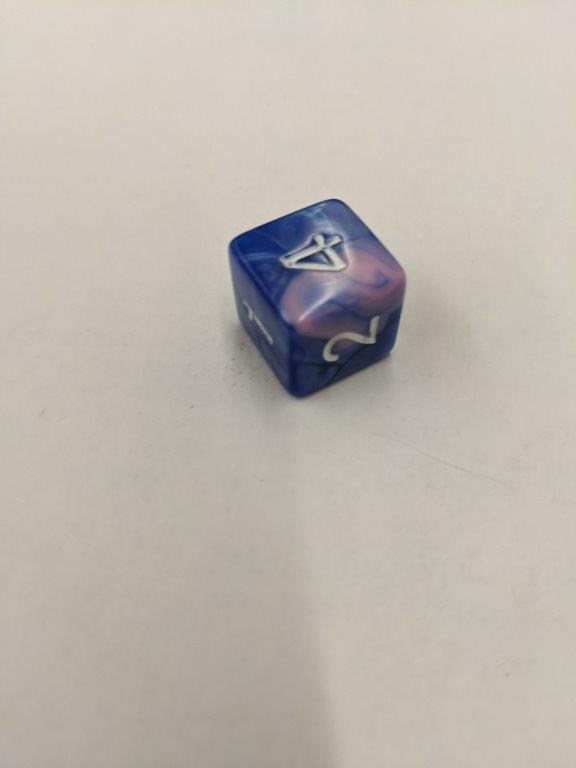d6-4: (229, 195, 409, 400)
